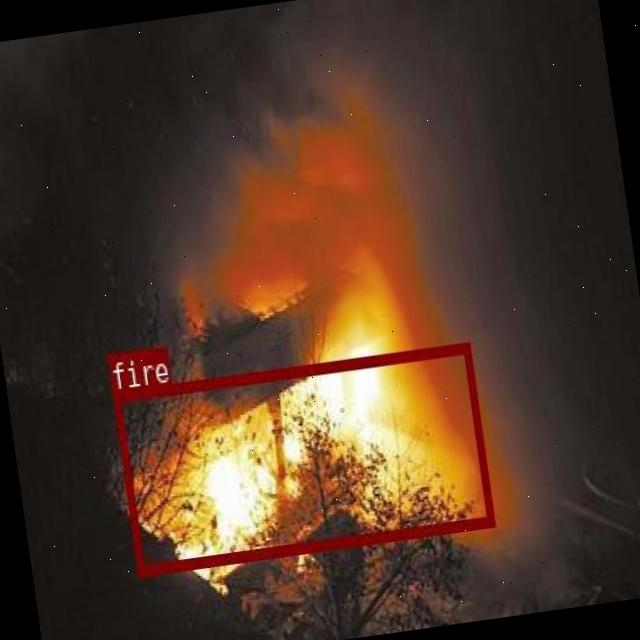fire: (112, 342, 494, 574)
